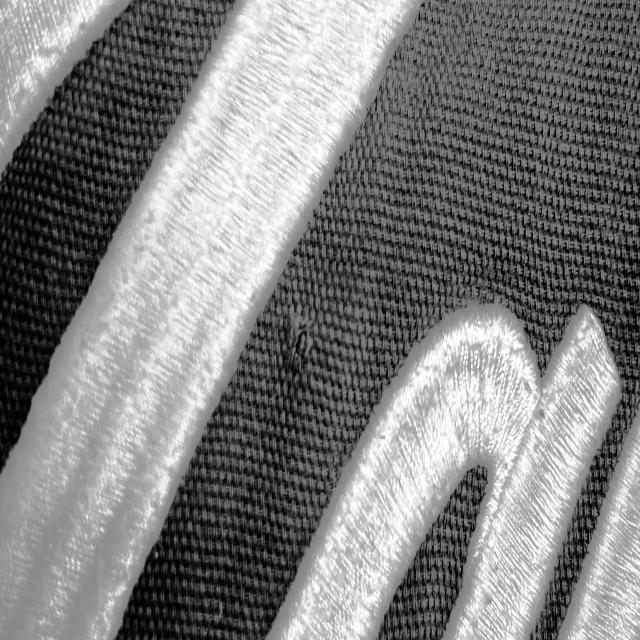Hole: (280, 301, 318, 380)
